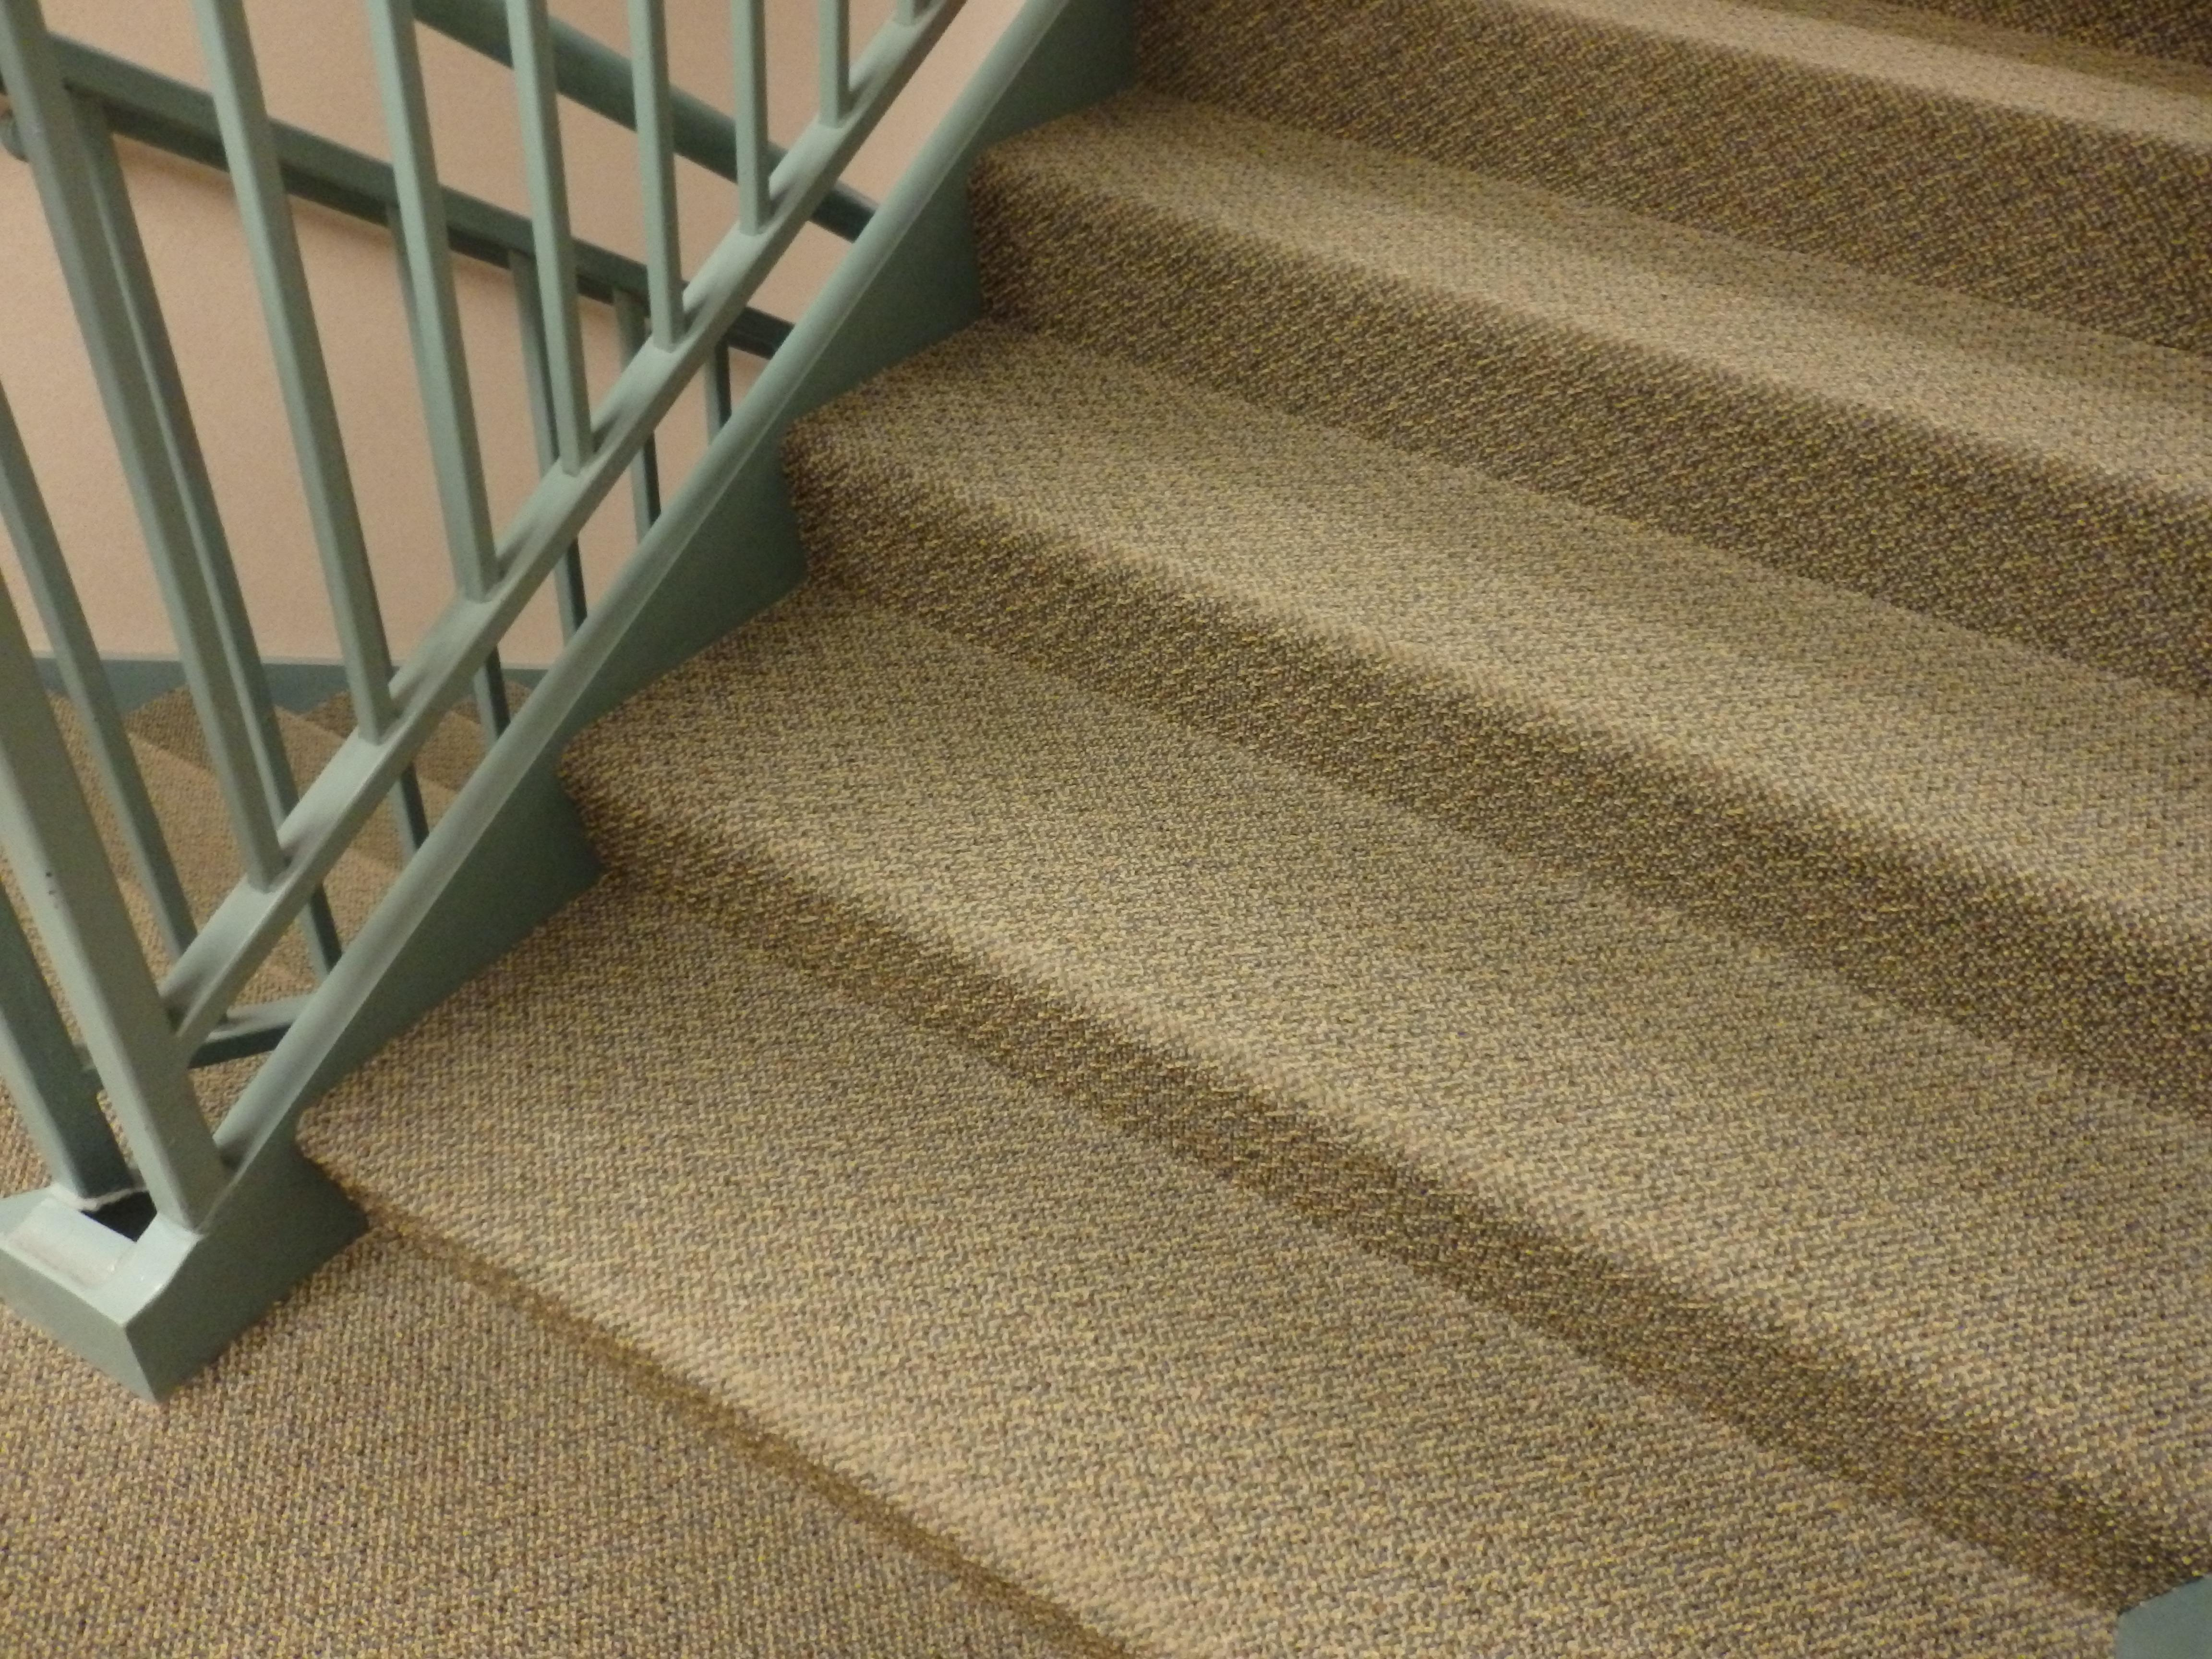stairs_up: (435, 78, 2212, 1640)
